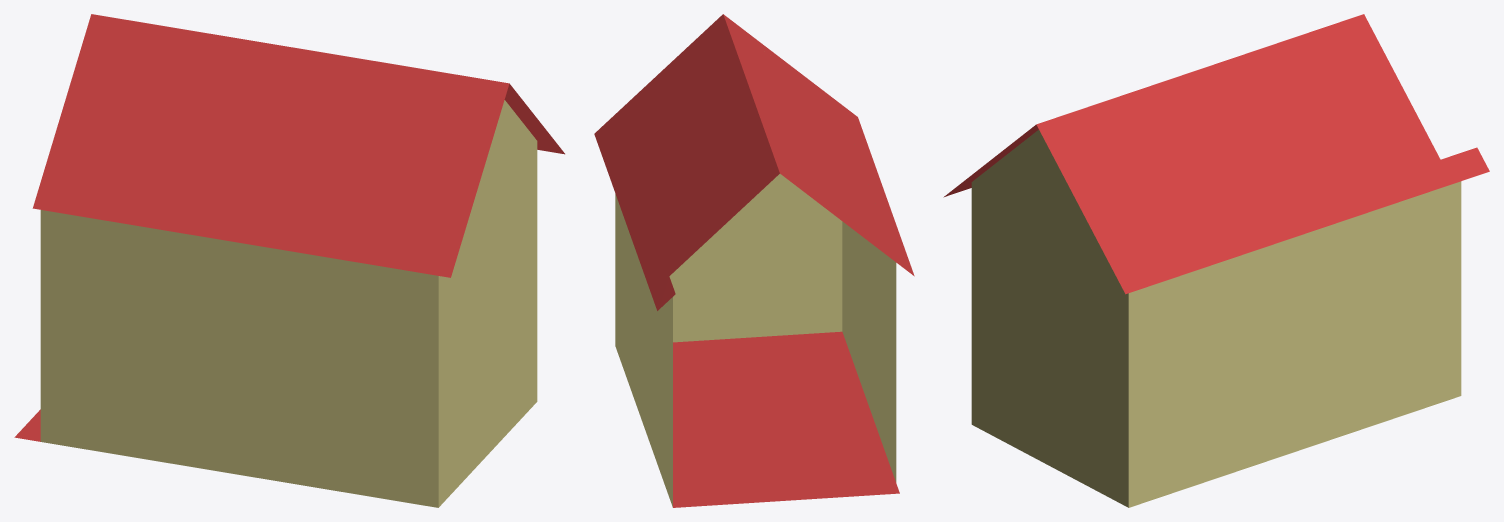
3 renders of one model, left to right at view 1: azimuth 30°, elevation 25°; view 2: azimuth 150°, elevation 25°; view 3: azimuth 270°, elevation 25°, orthographic. The views are drawn at different scales.
Size of the model in its own units: 18.06 by 20.12 by 14.14.
